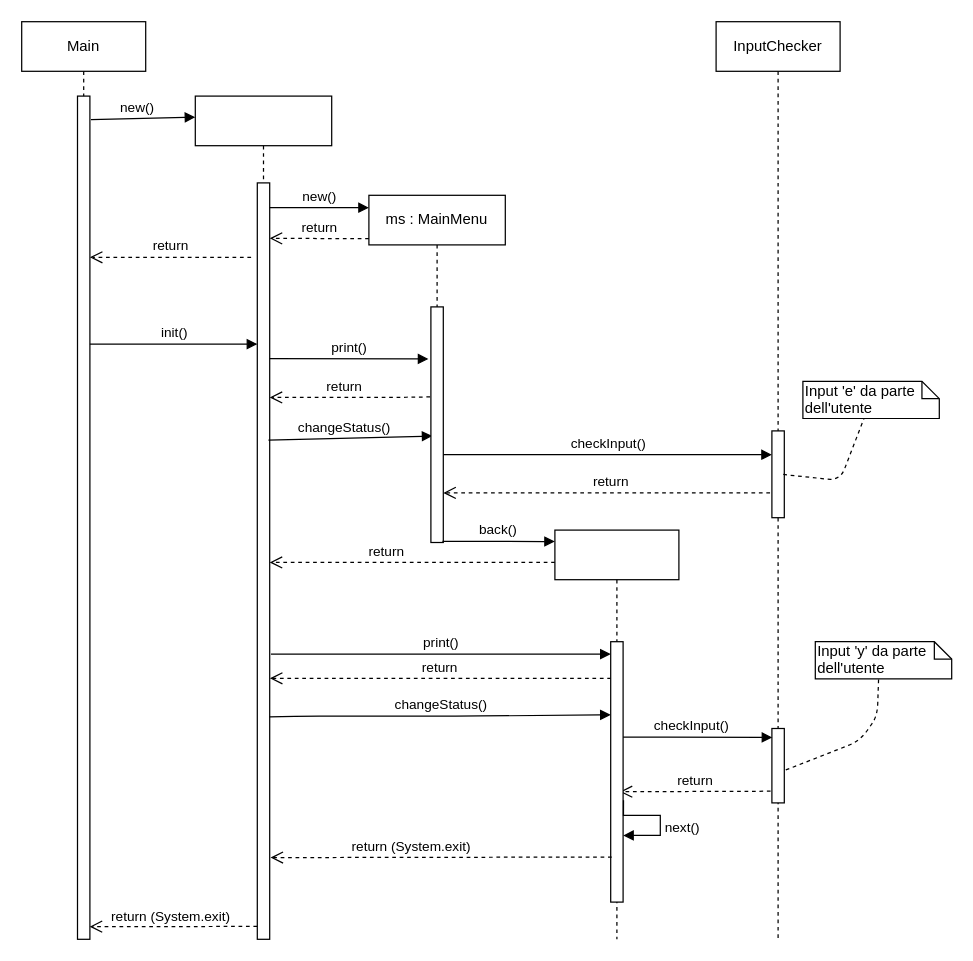
The diagram is 973 pixels wide and 961 high, and some of its shapes have lost their labels. Each missing label, with the box of its shape:
gameMenu : Menu: (194, 95, 332, 183)
ms : ExitMenu: (554, 529, 679, 939)
